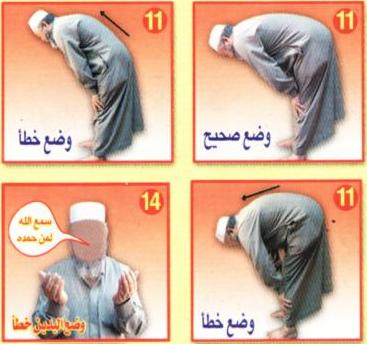ruku: (202, 11, 353, 134)
